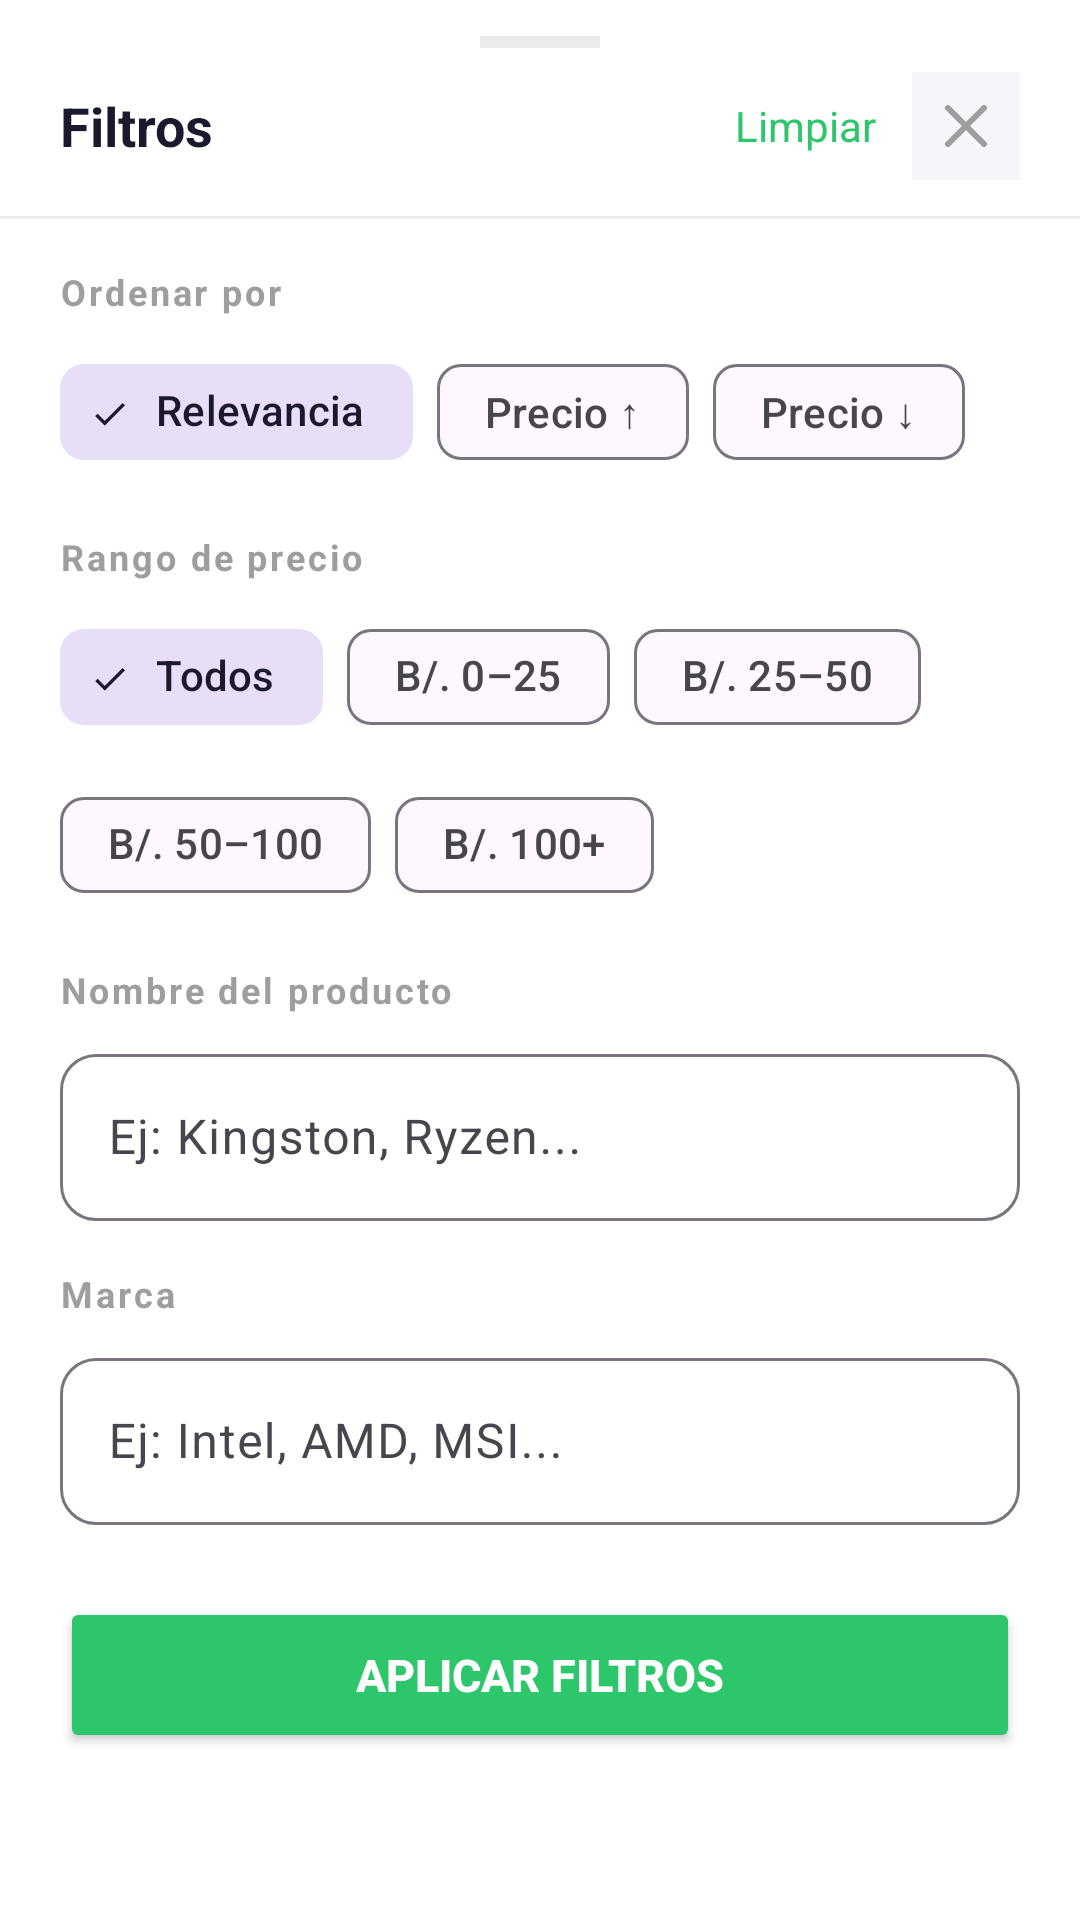

Icons on this 1080w x 1920h Android screen, each with the point to tap as point (x, y):
Cerrar: point (966, 126)
